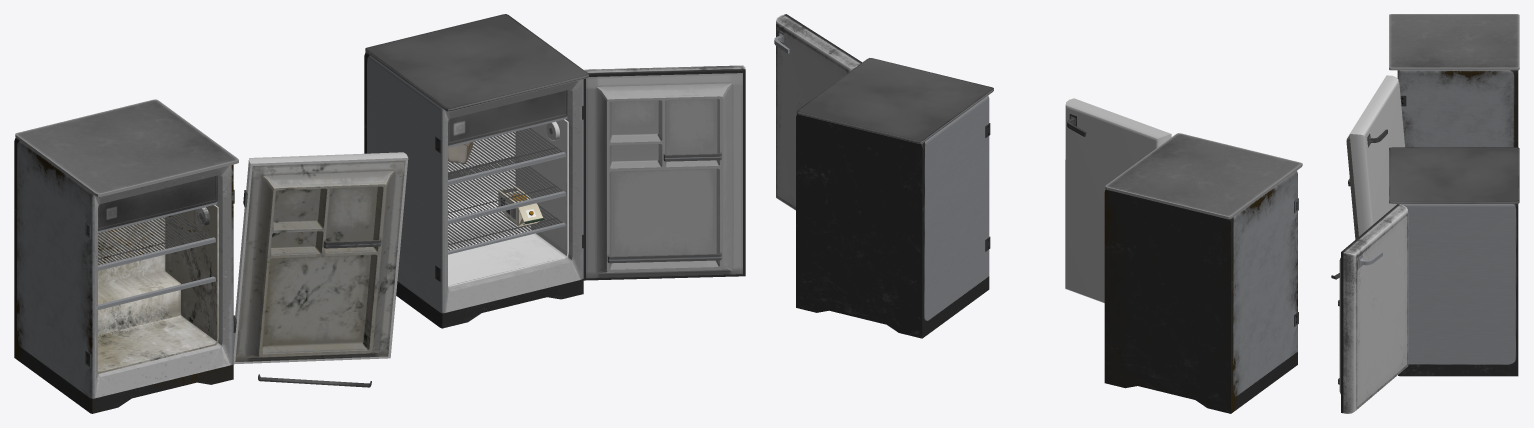
The model's file is Mini Fridge.fbx.
The picture shows the model from 3 angles, left to right: view 1: azimuth 30°, elevation 25°; view 2: azimuth 150°, elevation 25°; view 3: azimuth 270°, elevation 25°; orthographic projection. The views are drawn at different scales.
Parts seen in each view (by area): view 1: fridgeBroken_body, fridge_body, fridge_door, fridgeBroken_door, fridge_milk; view 2: fridgeBroken_body, fridge_body, fridgeBroken_door, fridge_door; view 3: fridge_body, fridgeBroken_body, fridge_door, fridgeBroken_door.
Boxes of the visible parts, x1,y1,x2,y2 form: fridgeBroken_body: (14,99,238,413); fridge_body: (364,14,588,328); fridge_door: (582,65,745,280); fridgeBroken_door: (233,152,408,364); fridge_milk: (498,186,544,226); fridgeBroken_body: (1104,133,1302,413); fridge_body: (796,58,993,338); fridgeBroken_door: (1065,98,1171,303); fridge_door: (774,14,861,210); fridge_body: (1389,147,1519,376); fridgeBroken_body: (1389,14,1519,147); fridge_door: (1338,204,1408,413); fridgeBroken_door: (1346,75,1404,239).
Bounding box in the file's own units: 13.22 × 4.54 × 4.44.
